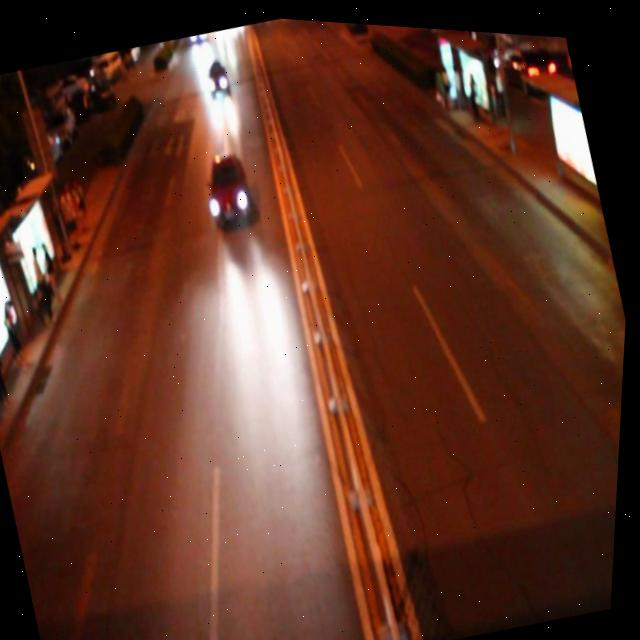car: (199, 144, 259, 219), (200, 51, 233, 95)
